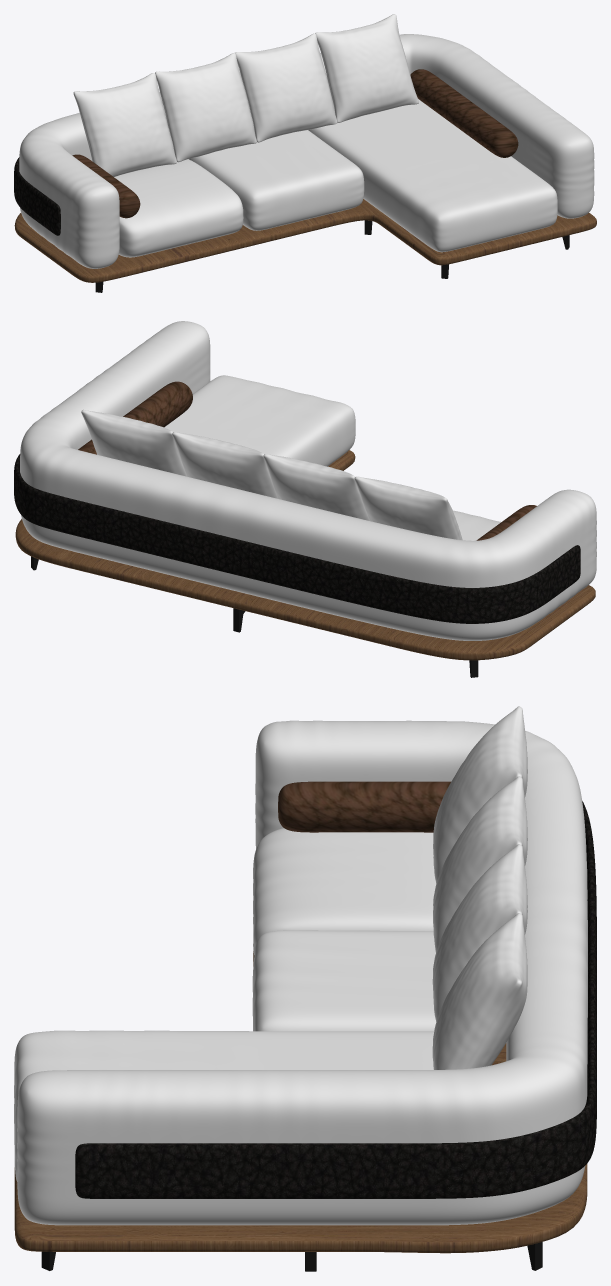
The model's file is sofa_8.fbx.
3 renders of one model, top to bottom at view 1: azimuth 30°, elevation 25°; view 2: azimuth 150°, elevation 25°; view 3: azimuth 270°, elevation 25°, orthographic. The views are drawn at different scales.
Parts seen in each view (by area): view 1: Sofa-Parts4-.004, Sofa-Parts4-.011, Sofa-Parts4-.003, Sofa-Parts4-.006, Sofa-Parts4-.005, Sofa-Parts4-.008; view 2: Sofa-Parts4-.004, Sofa-Parts4-.005, Sofa-Parts4-.011, Sofa-Parts4-.003, Sofa-Parts4-.006, Sofa-Parts4-.008; view 3: Sofa-Parts4-.004, Sofa-Parts4-.005, Sofa-Parts4-.011, Sofa-Parts4-.003, Sofa-Parts4-.006, Sofa-Parts4-.008.
Boxes of the visible parts, x1,y1,x2,y2 form: Sofa-Parts4-.004: (19,34,594,268); Sofa-Parts4-.011: (73,14,418,176); Sofa-Parts4-.003: (14,199,596,282); Sofa-Parts4-.006: (72,69,518,218); Sofa-Parts4-.005: (14,157,60,235); Sofa-Parts4-.008: (95,220,569,292); Sofa-Parts4-.004: (20,321,596,640); Sofa-Parts4-.005: (14,454,580,623); Sofa-Parts4-.011: (81,409,462,540); Sofa-Parts4-.003: (15,450,595,660); Sofa-Parts4-.006: (78,381,536,540); Sofa-Parts4-.008: (31,556,478,677); Sofa-Parts4-.004: (14,720,587,1225); Sofa-Parts4-.005: (75,801,596,1198); Sofa-Parts4-.011: (432,706,527,1069); Sofa-Parts4-.003: (14,951,587,1253); Sofa-Parts4-.006: (278,781,450,832); Sofa-Parts4-.008: (41,1242,542,1271).
Size of the model in its own units: 194 by 59.16 by 122.
Materials: 5 (4 with a texture image).
